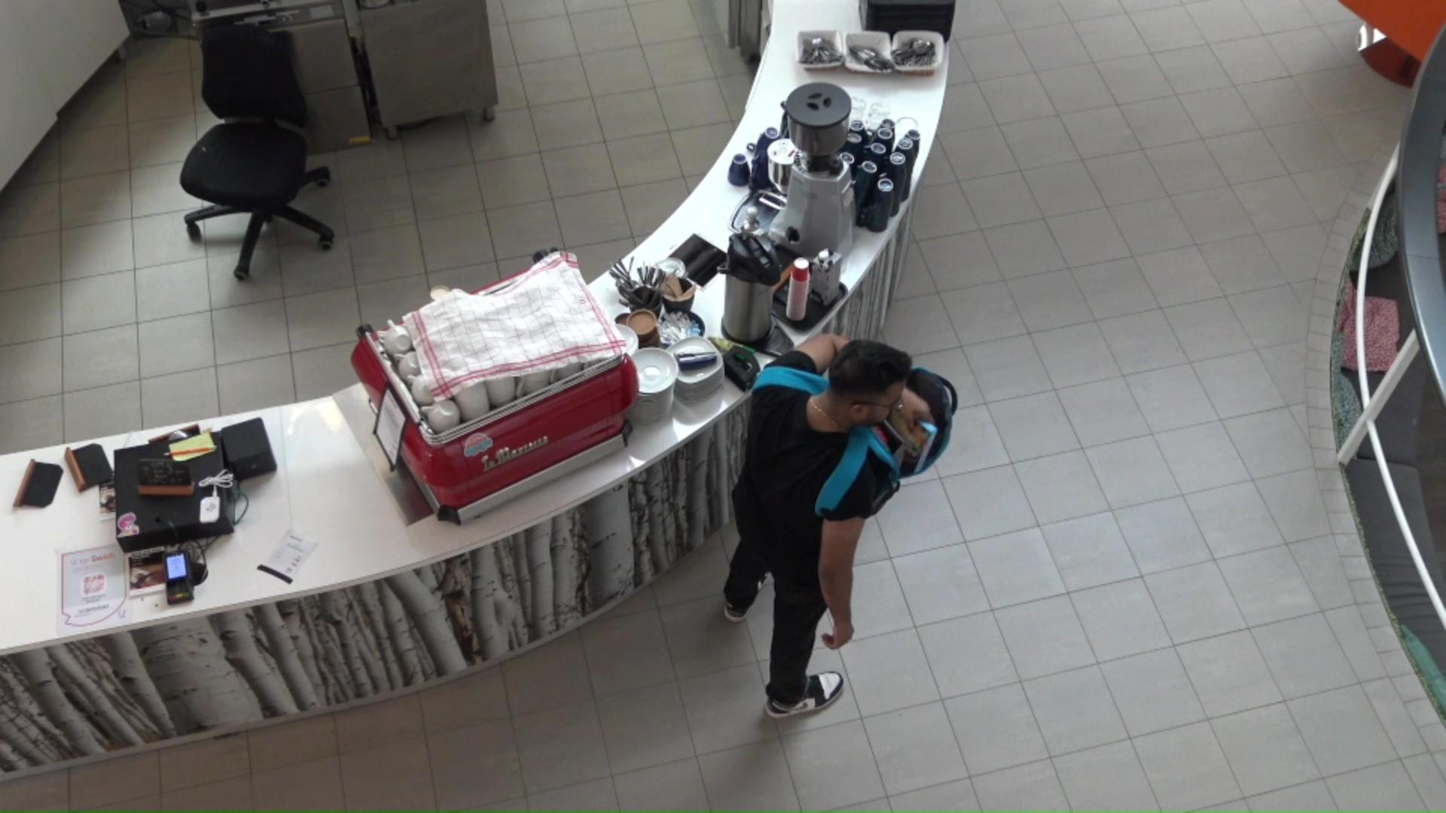shoplifting: (735, 332, 950, 717)
